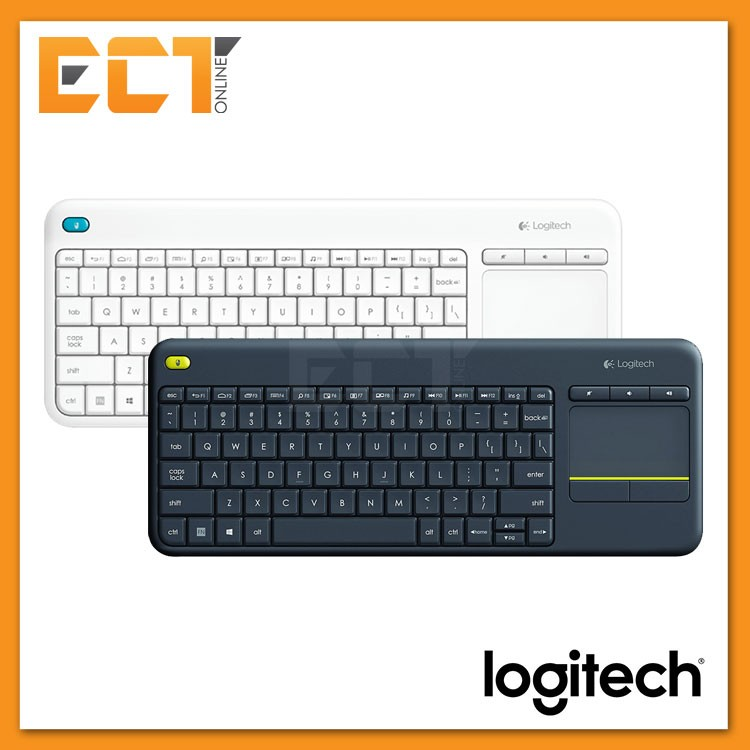logitech-keyboard-k400: (149, 337, 705, 559)
